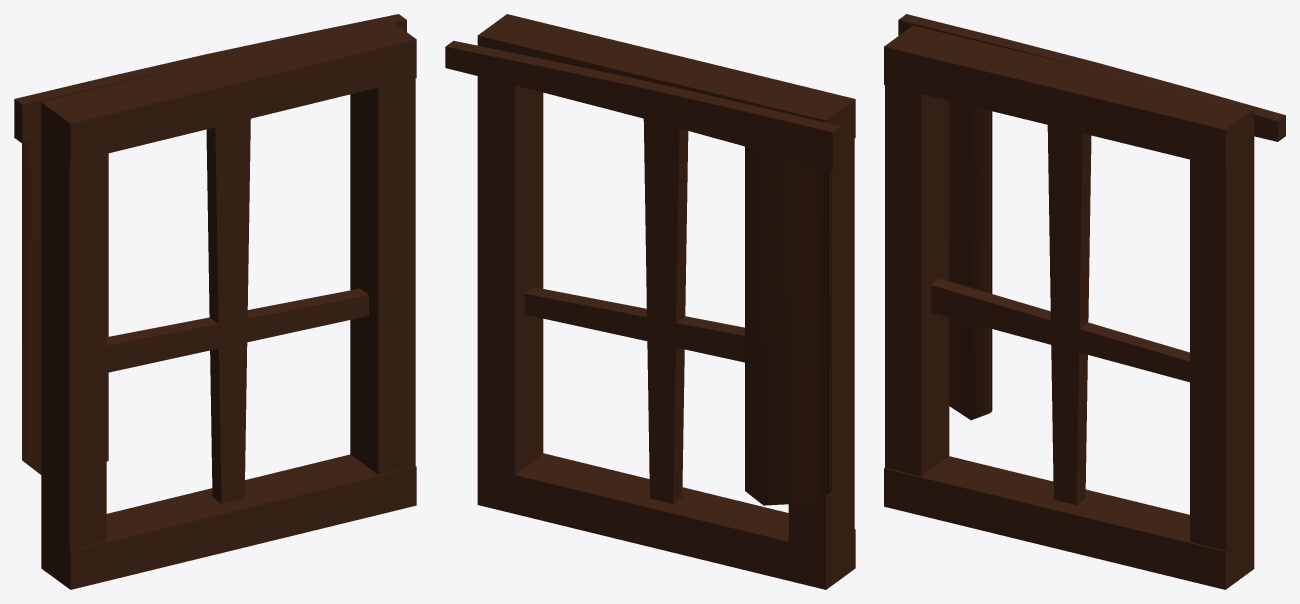
The model's file is SM_Window.fbx.
3 views of the same model, side by side, from view 1: azimuth 30°, elevation 25°; view 2: azimuth 150°, elevation 25°; view 3: azimuth 330°, elevation 25° (orthographic). The views are drawn at different scales.
Visible parts, largest first — view 1: SM_Window_LOD0; view 2: SM_Window_LOD0; view 3: SM_Window_LOD0.
Part boxes in pixels (x1,y1,x2,y2): SM_Window_LOD0: [14, 14, 416, 589]; SM_Window_LOD0: [445, 14, 855, 589]; SM_Window_LOD0: [884, 14, 1285, 589].
Bounding box in the file's own units: 177 × 31.61 × 205.
